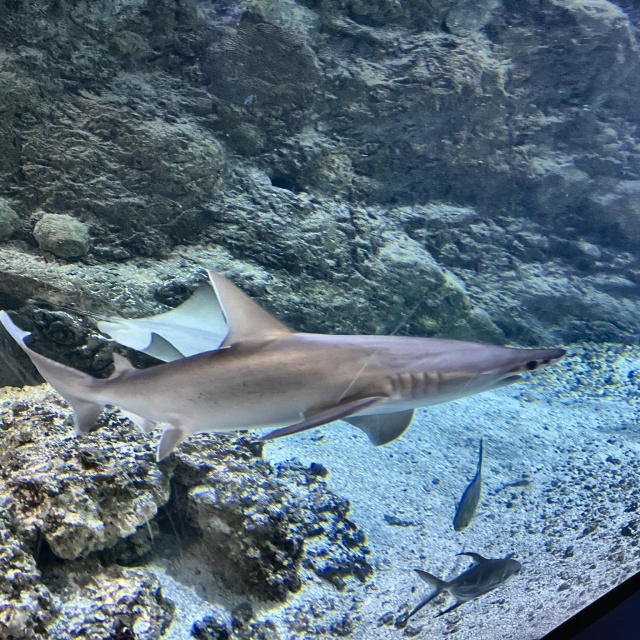fish: (405, 552, 522, 618), (453, 440, 485, 533)
shark: (0, 263, 572, 464)
